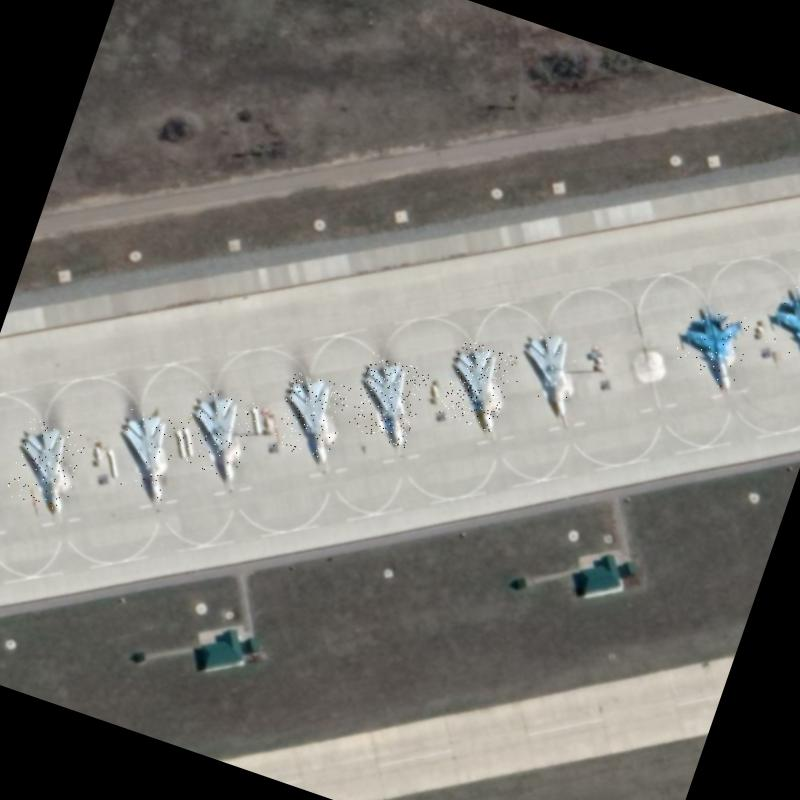A19: (670, 298, 756, 391), (759, 279, 800, 370)
A20: (174, 386, 260, 482), (104, 404, 188, 502), (269, 369, 353, 465), (346, 353, 430, 449), (5, 418, 88, 514), (436, 338, 518, 433), (508, 324, 590, 418)
